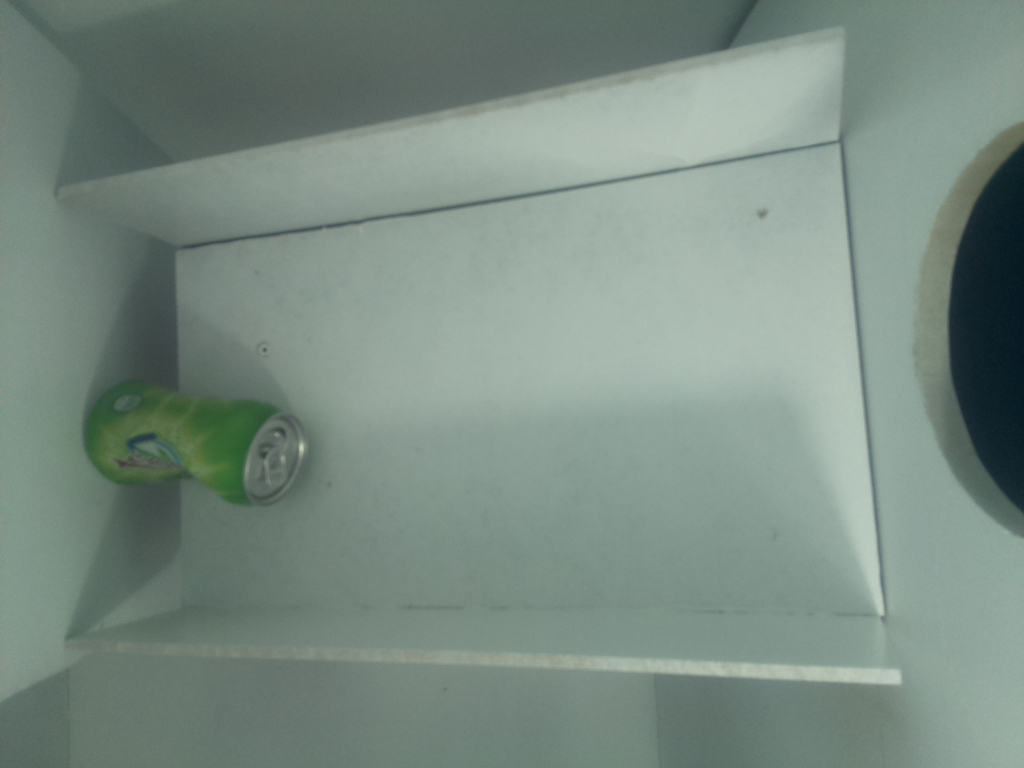kaleng: (85, 379, 312, 506)
